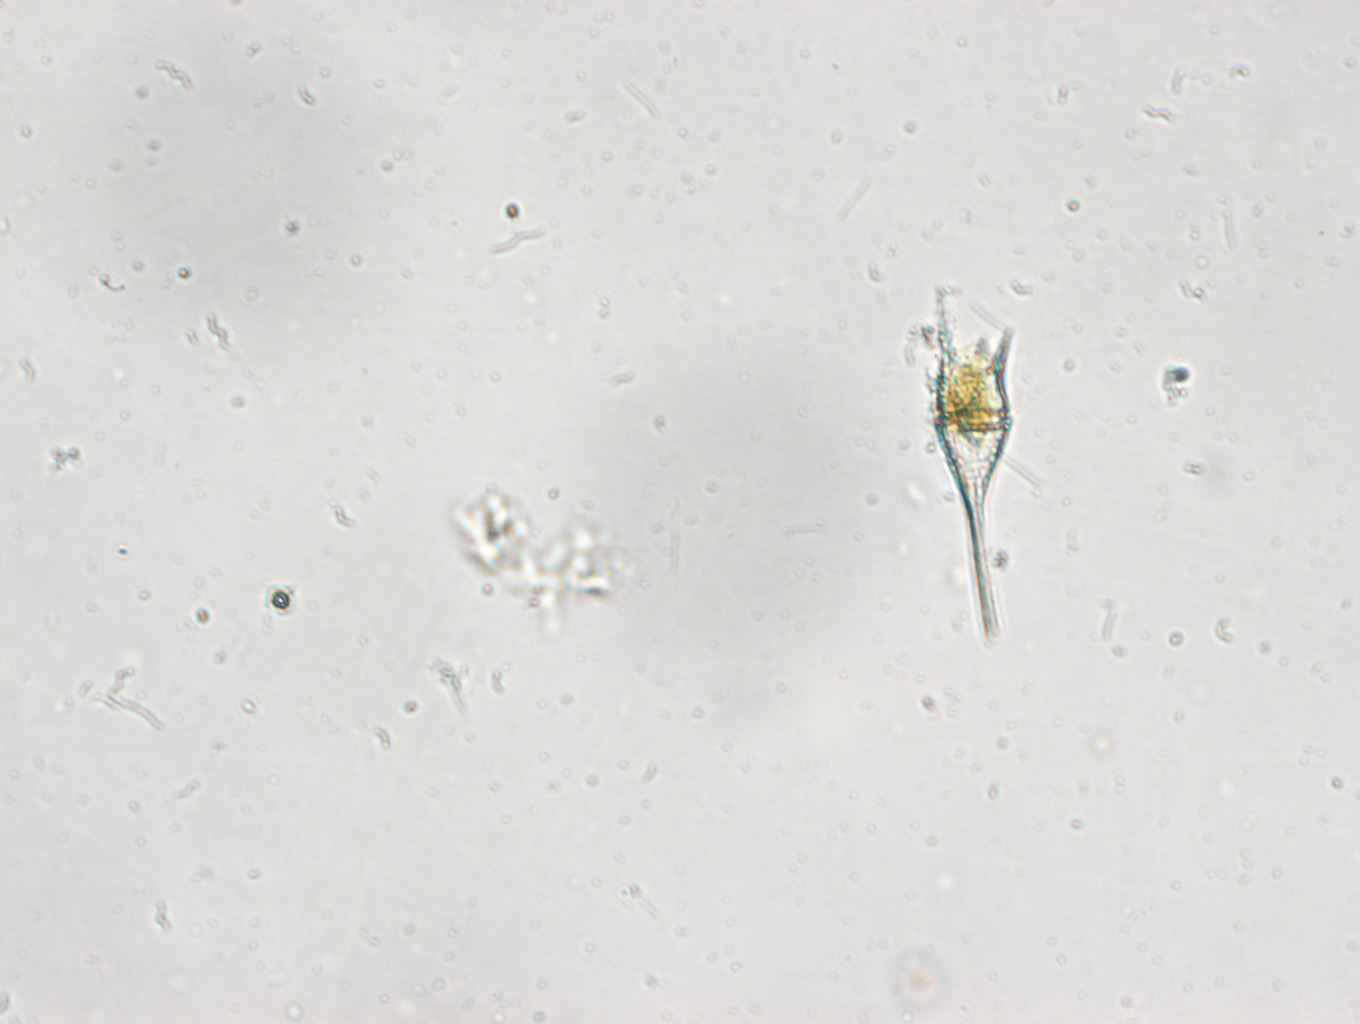ceratium furca: (918, 291, 1030, 651)
